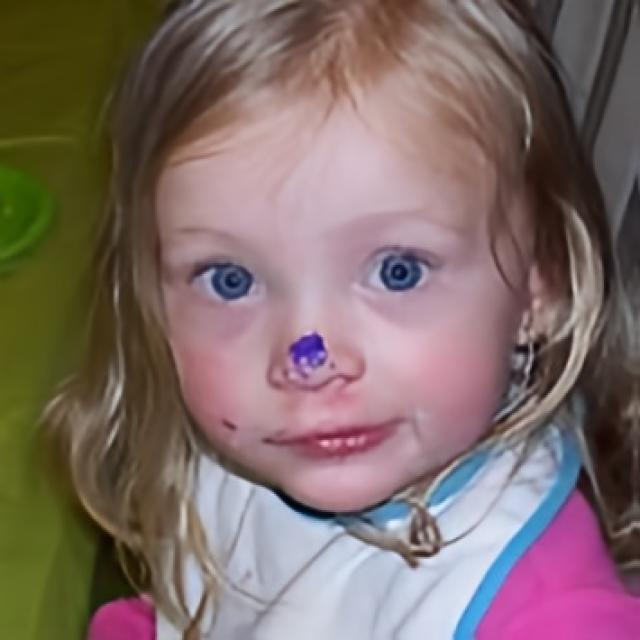surprise: (162, 81, 516, 512)
